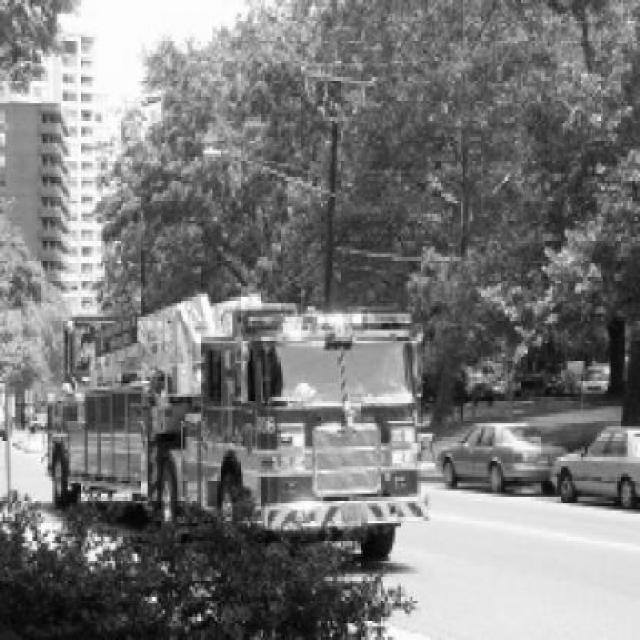Fire Truck: (45, 292, 435, 561)
